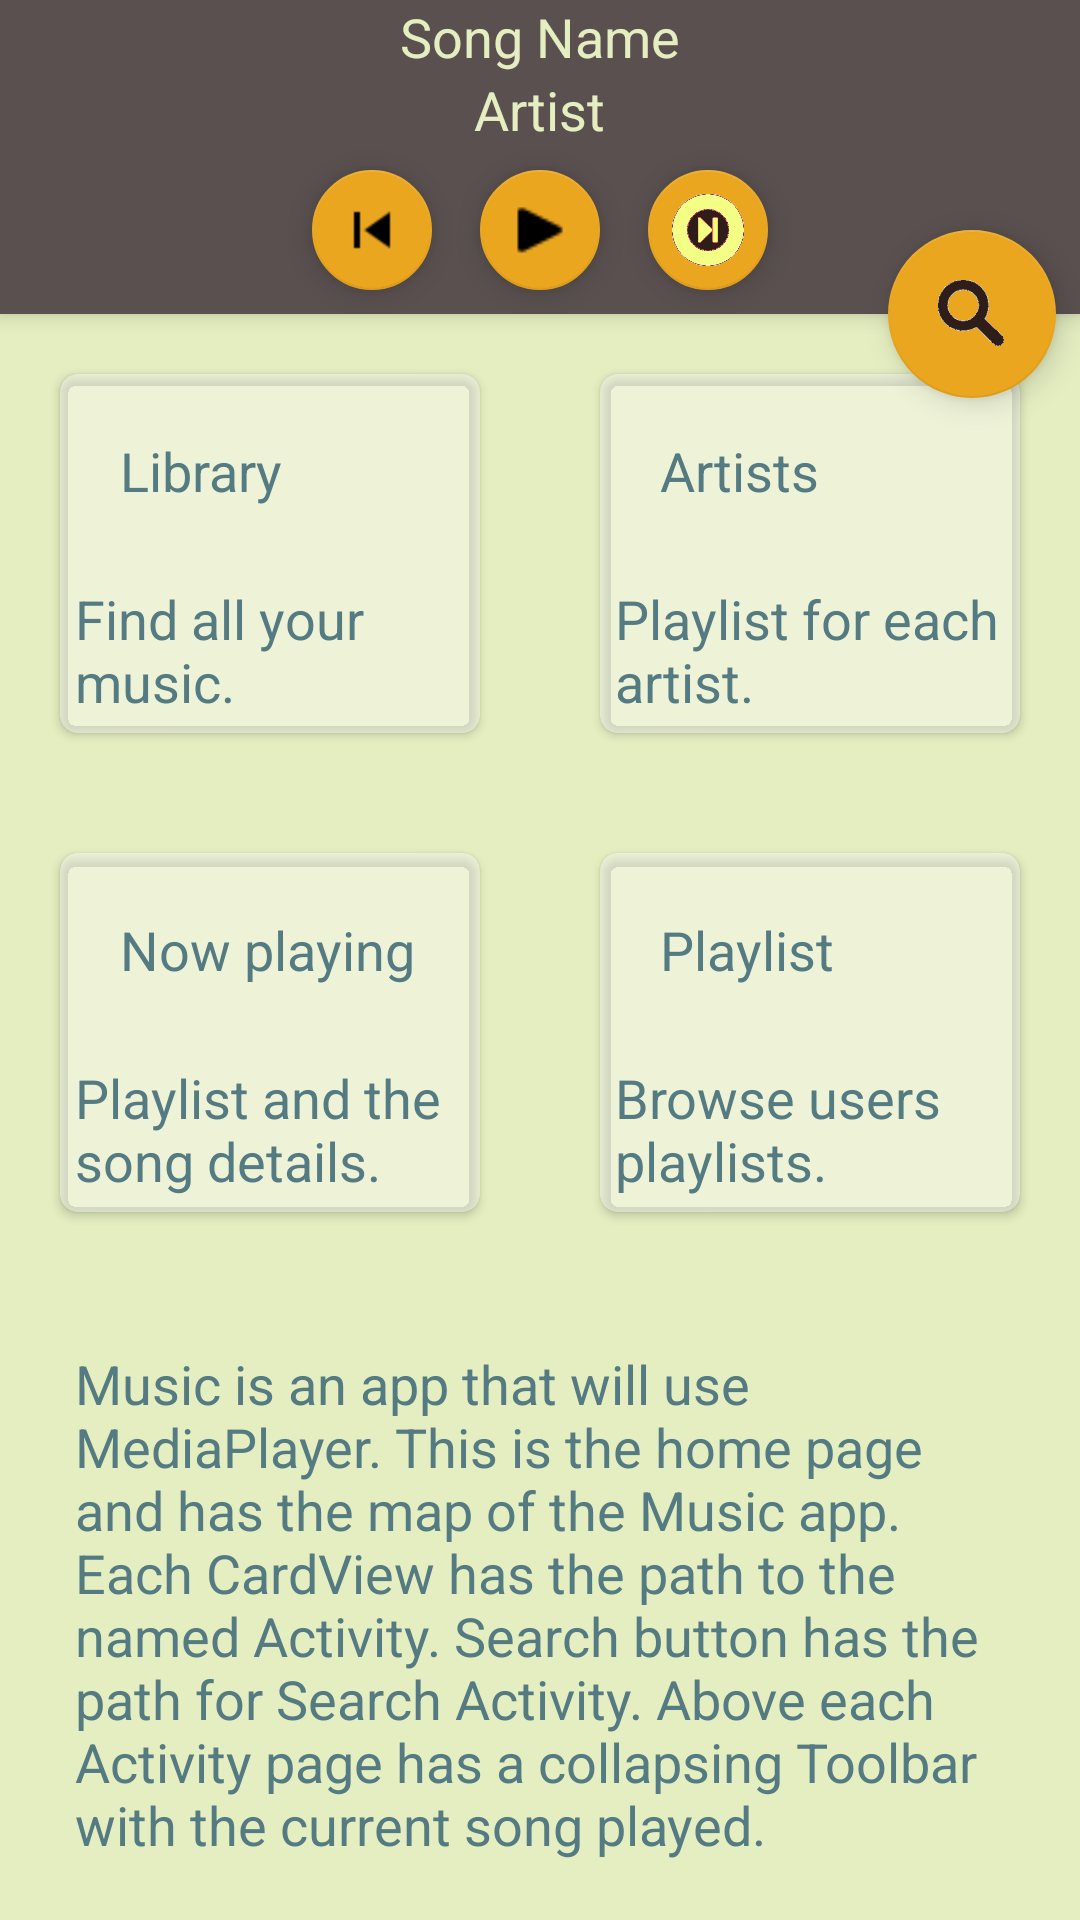

Icon bounding boxes for this 1080w x 1920h phone screenshot, format bbox(x1, y1, x2, y2):
next: bbox(648, 170, 768, 290)
play: bbox(480, 170, 600, 290)
previous: bbox(312, 170, 432, 290)
